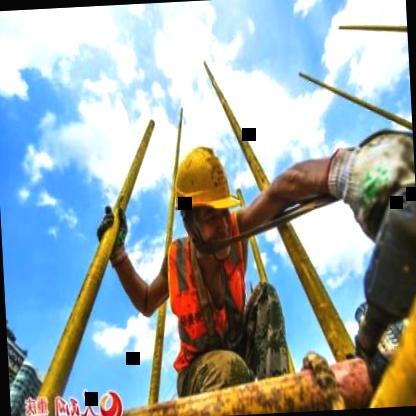helmet: (163, 134, 246, 268)
